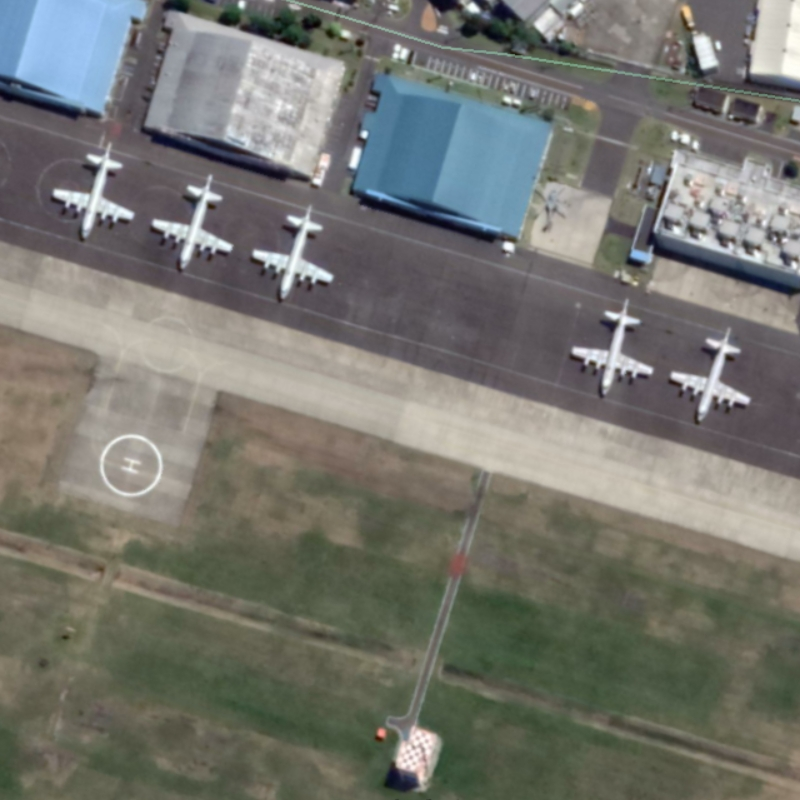A9: (41, 134, 143, 246), (561, 289, 657, 398), (665, 317, 758, 429), (244, 200, 341, 306), (144, 165, 237, 274)
